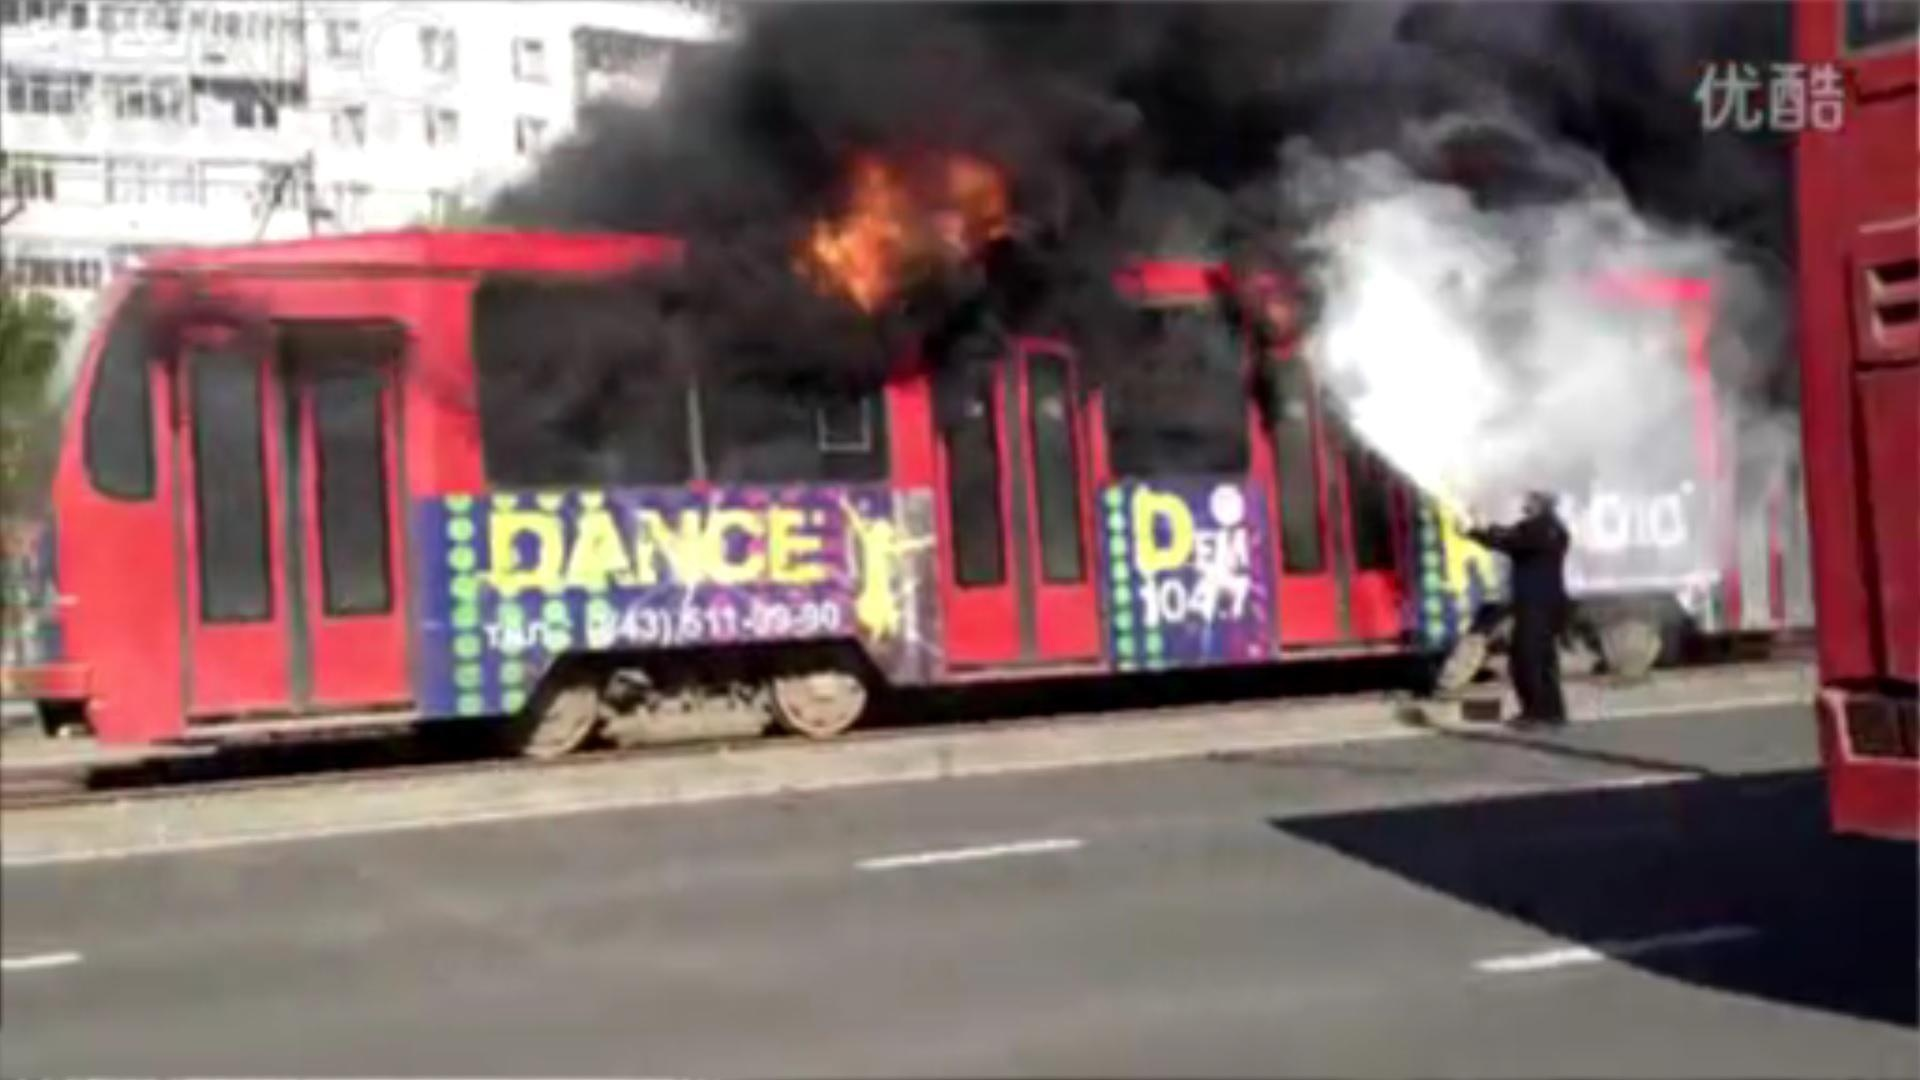fire: (814, 150, 1009, 309)
